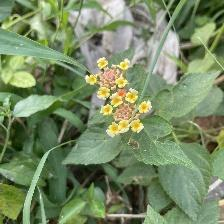common lanthana: (86, 55, 154, 137)
